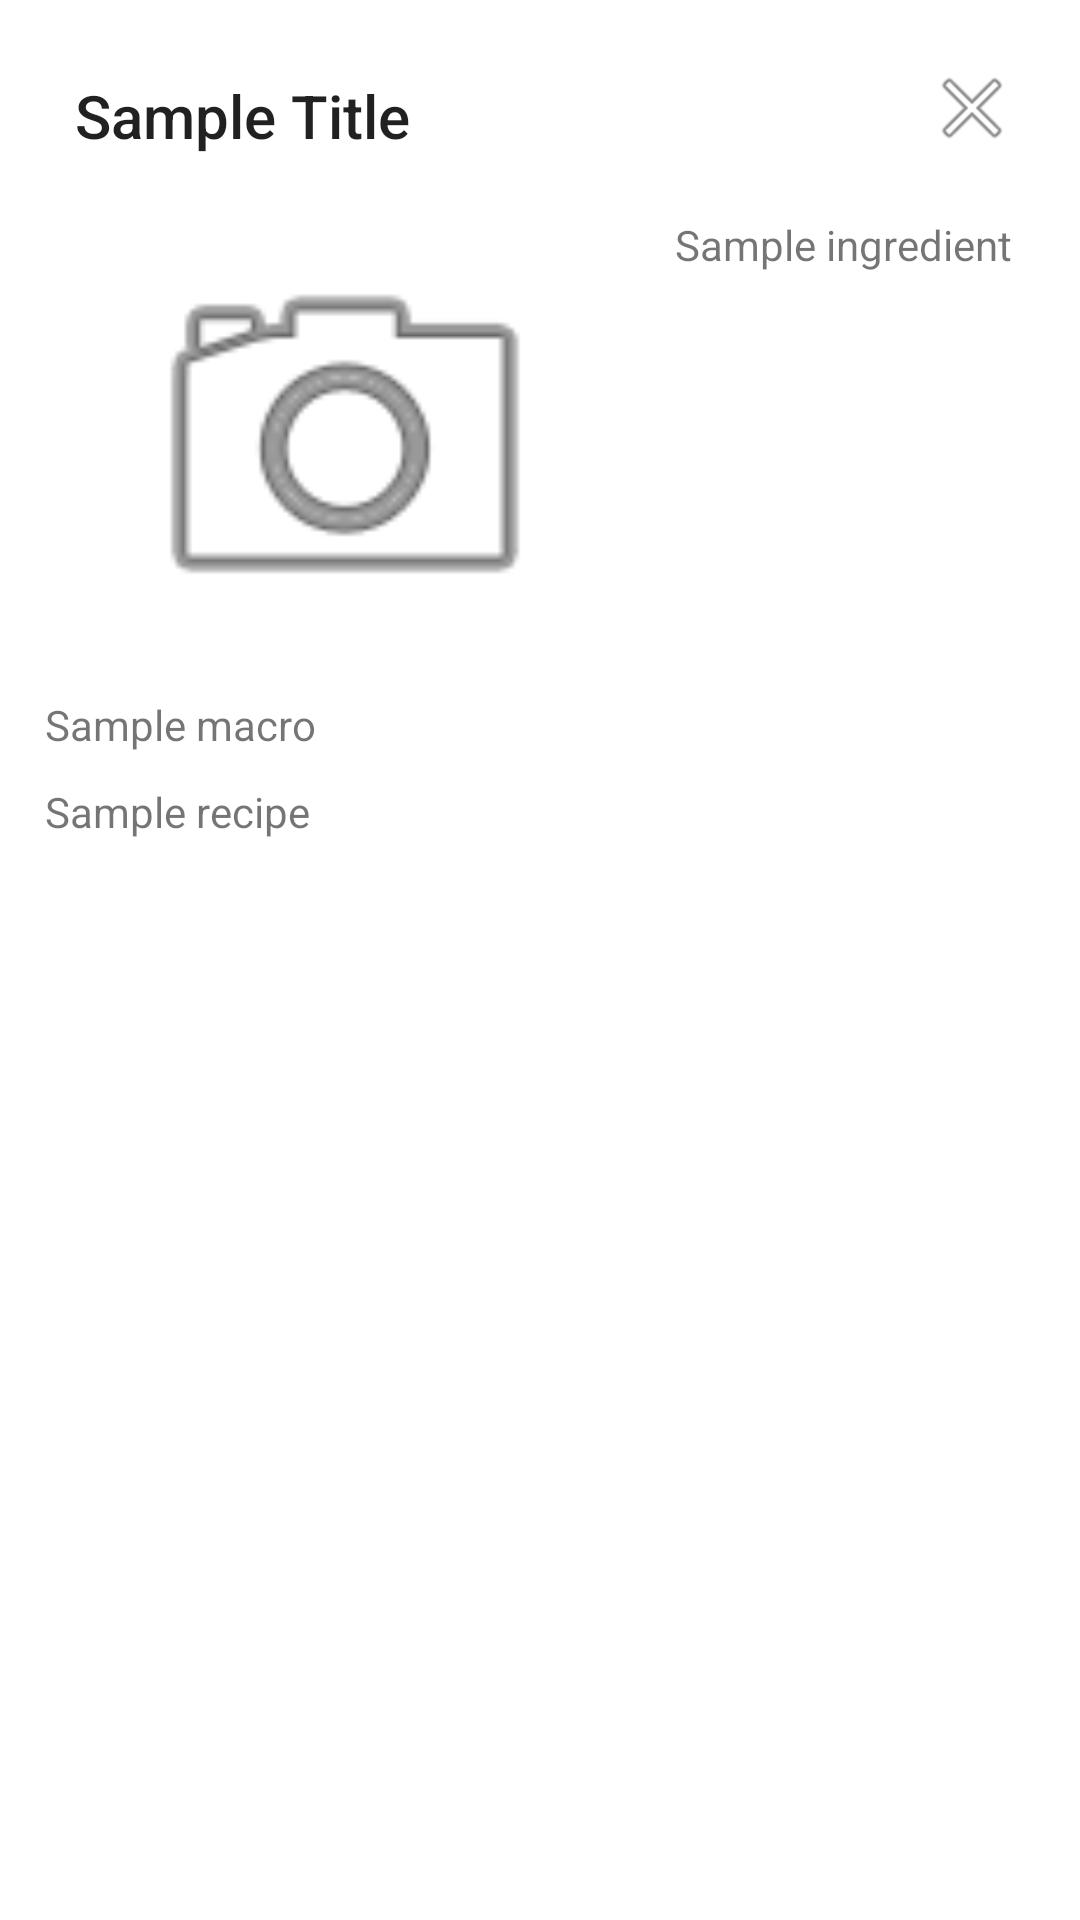

Named icons in this screenshot (1080 x 1920) and their bounding boxes, (x1, y1, x2, y2):
Close Recipe Button Image: (942, 78, 1002, 138)
